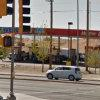Traffic light: (2, 2, 40, 42)
